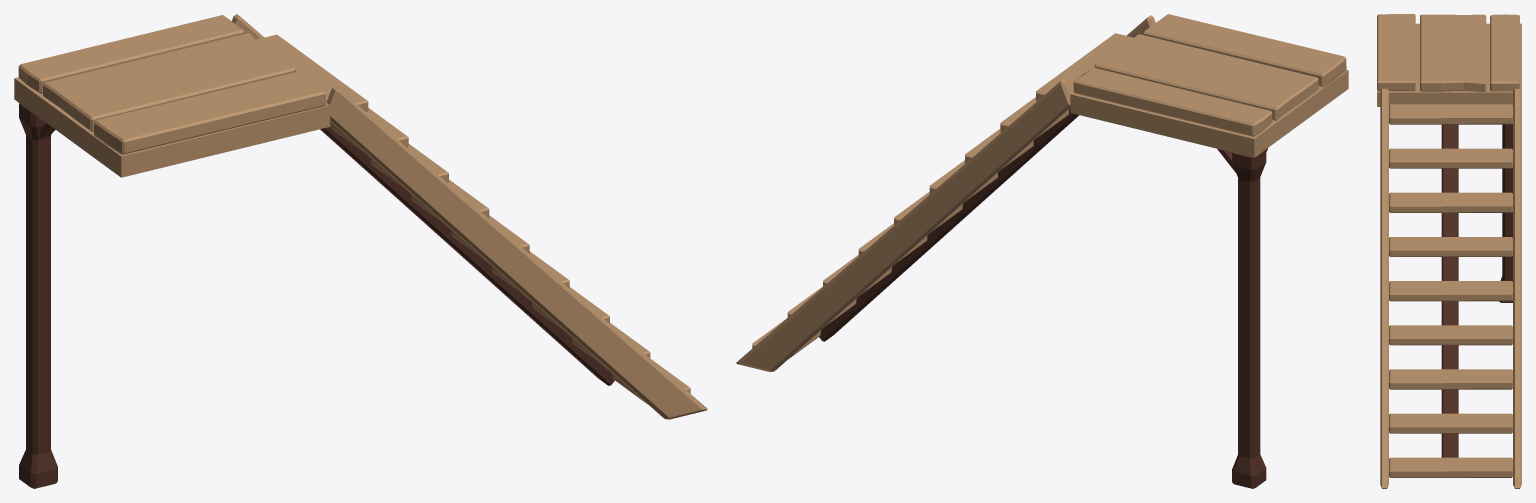
File: stairs-b.glb
3 views of the same model, side by side, from view 1: azimuth 30°, elevation 25°; view 2: azimuth 150°, elevation 25°; view 3: azimuth 270°, elevation 25° (orthographic). The views are drawn at different scales.
Parts seen in each view (by area): view 1: Stairs B (×2); view 2: Stairs B (×2); view 3: Stairs B (×2).
Part boxes in pixels (x1=…): Stairs B (×2): x1=14, y1=14, x2=707, y2=488; Stairs B (×2): x1=736, y1=14, x2=1348, y2=488; Stairs B (×2): x1=1377, y1=14, x2=1521, y2=488.
Bounding box in the file's own units: 3.25 × 2.19 × 1.02.
